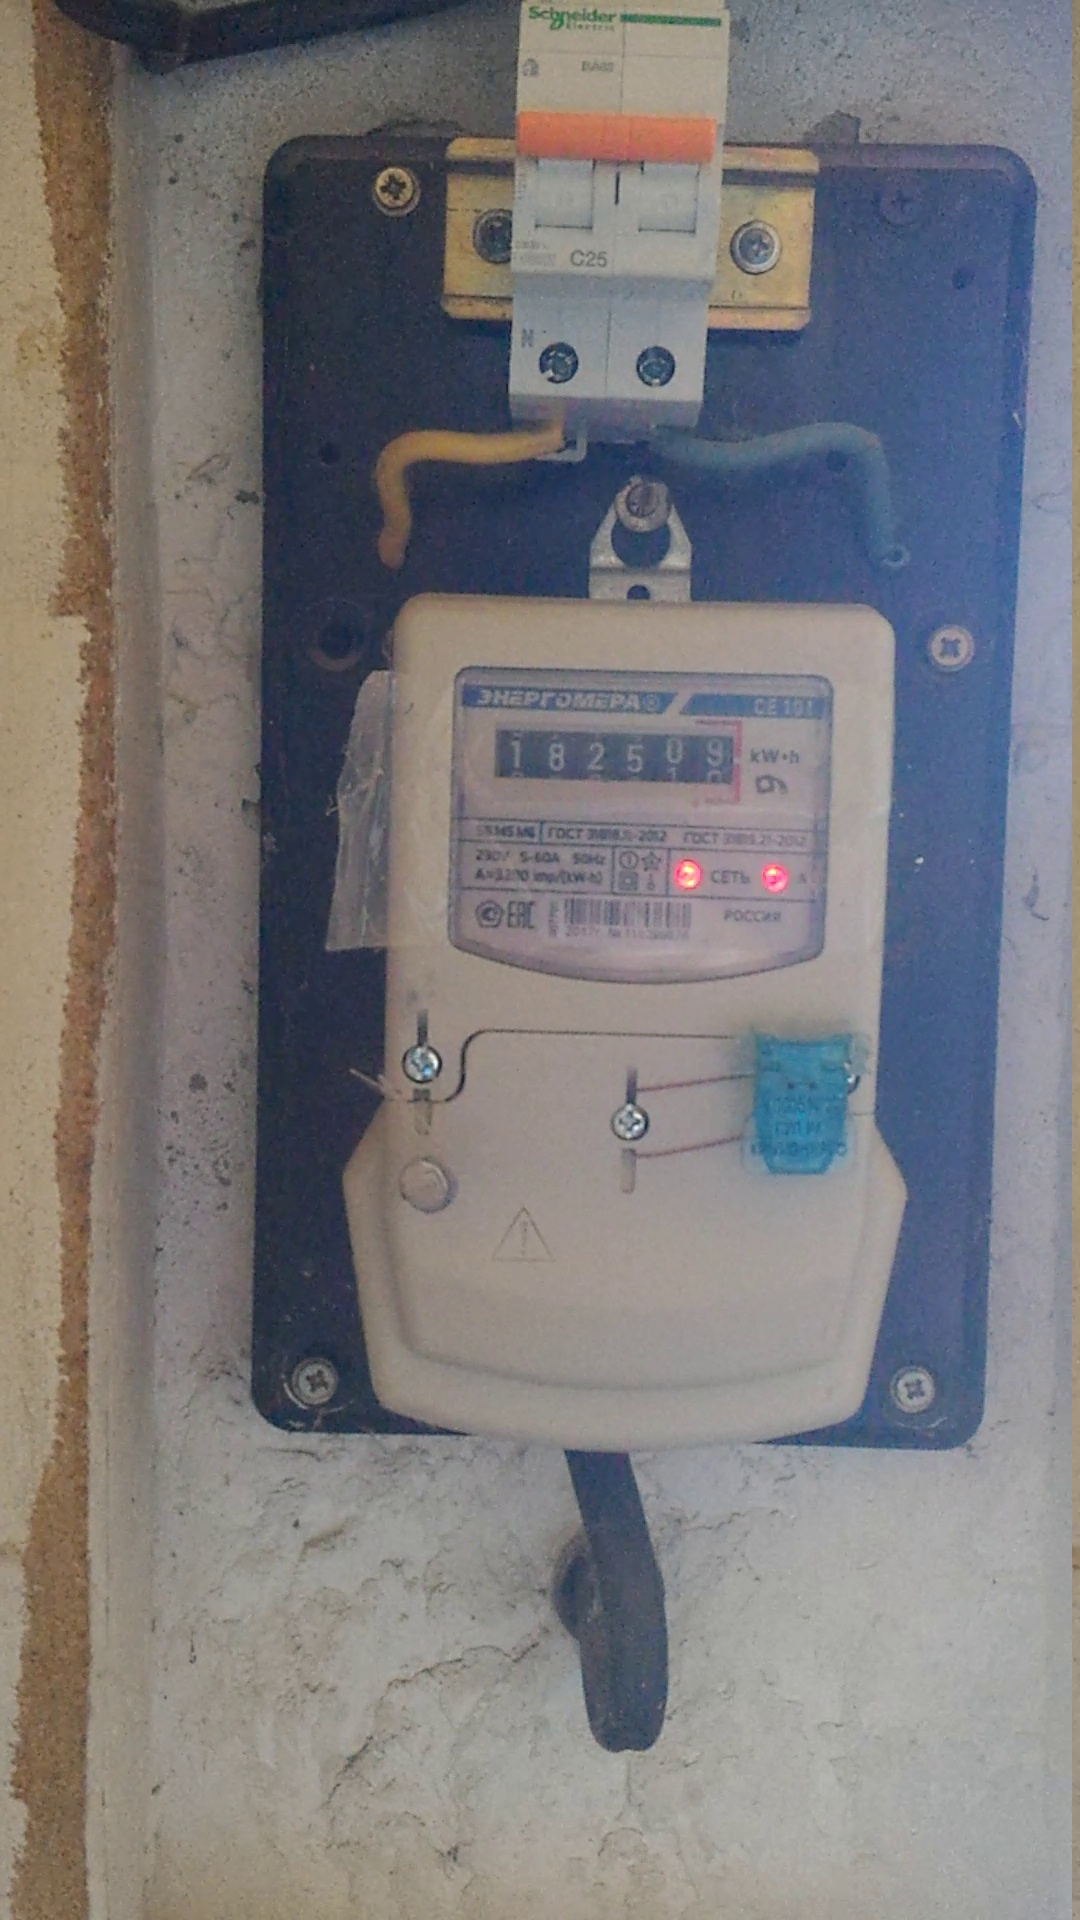counter: (349, 575, 926, 1473)
counter_screen: (495, 727, 735, 787)
